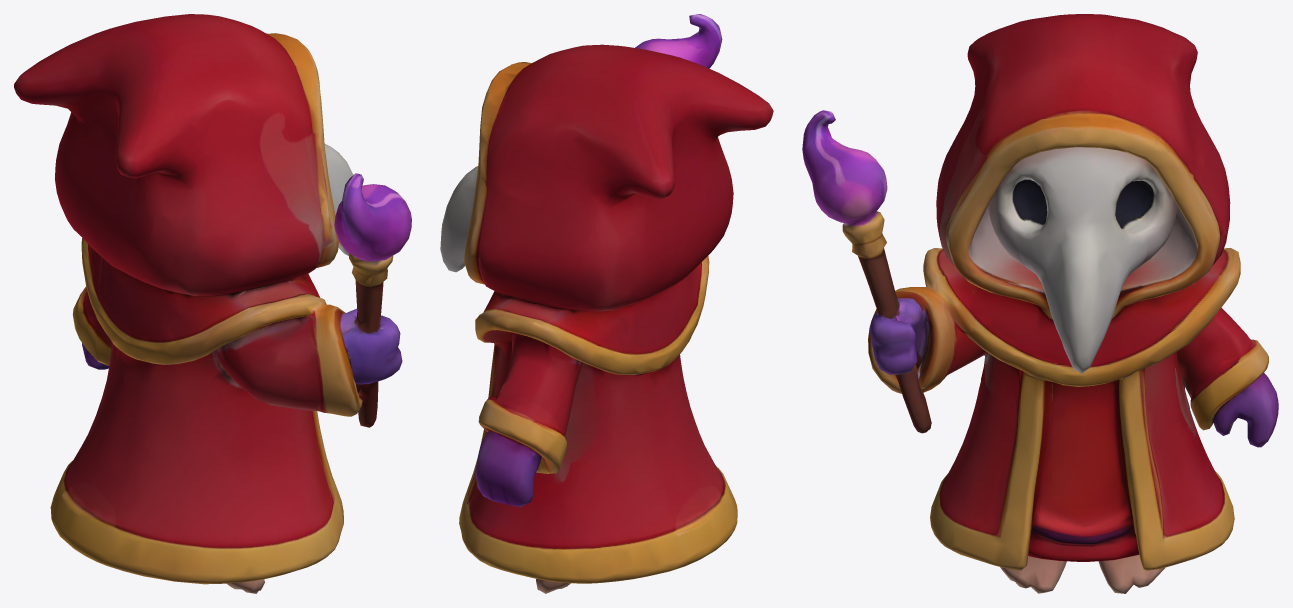
Rendered from ganon_bishop_wizzrobe.glb.
The picture shows the model from 3 angles, left to right: view 1: azimuth 30°, elevation 25°; view 2: azimuth 150°, elevation 25°; view 3: azimuth 270°, elevation 25°; orthographic projection. The views are drawn at different scales.
Visible parts, largest first — view 1: tripo_node_7a36f8b5-6501-4253-9622-483cc4a3824f; view 2: tripo_node_7a36f8b5-6501-4253-9622-483cc4a3824f; view 3: tripo_node_7a36f8b5-6501-4253-9622-483cc4a3824f.
Part boxes in pixels (x1=…): tripo_node_7a36f8b5-6501-4253-9622-483cc4a3824f: x1=14, y1=14, x2=411, y2=593; tripo_node_7a36f8b5-6501-4253-9622-483cc4a3824f: x1=440, y1=14, x2=773, y2=593; tripo_node_7a36f8b5-6501-4253-9622-483cc4a3824f: x1=802, y1=14, x2=1278, y2=593.
Bounding box in the file's own units: 0.5294 × 0.9507 × 0.7586.
Materials: 1 (1 with a texture image).
